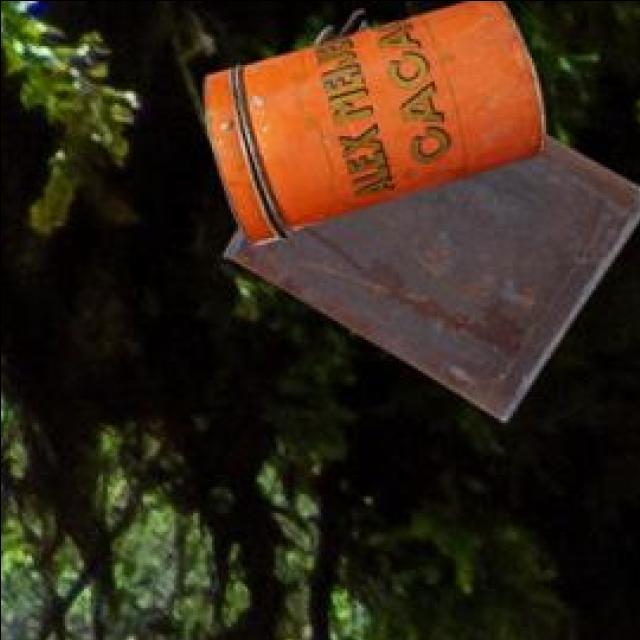logam: (220, 6, 640, 418), (200, 0, 542, 241)
